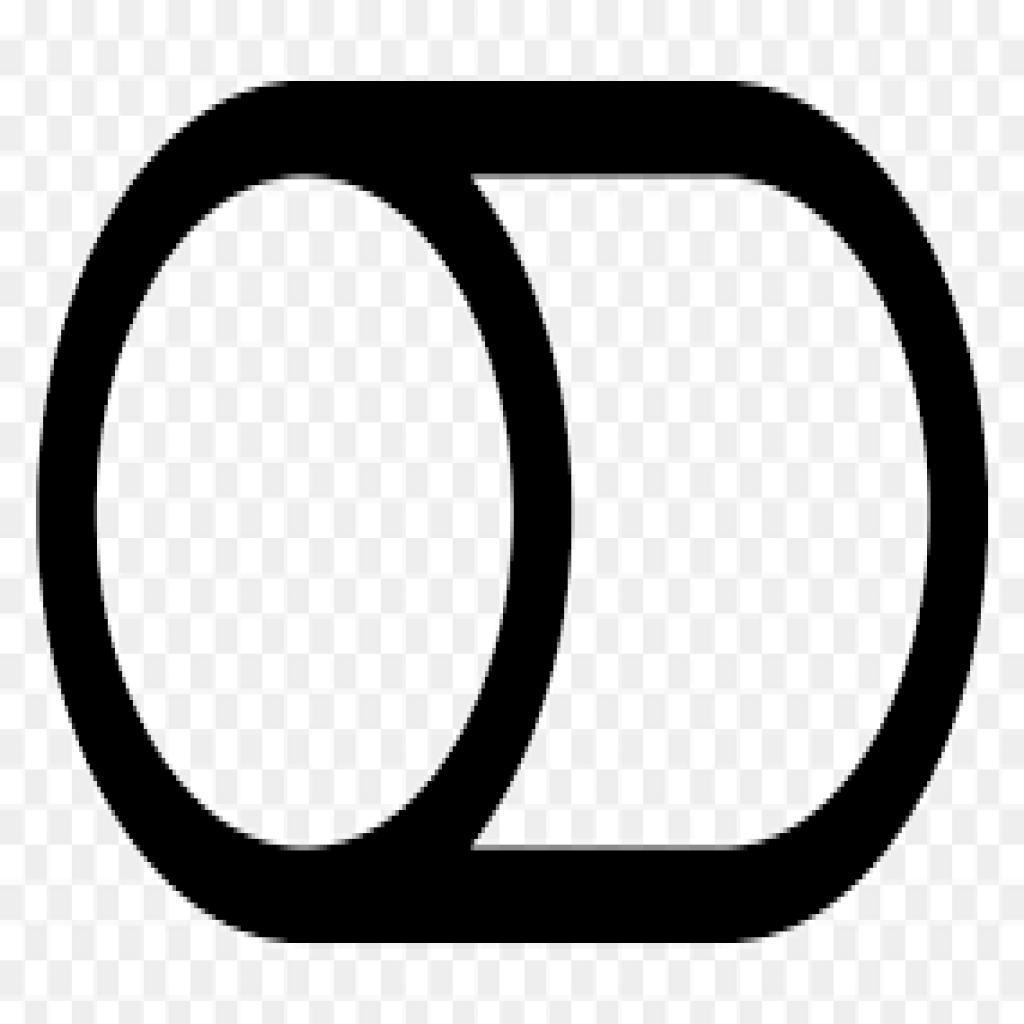switch: (37, 81, 989, 947)
